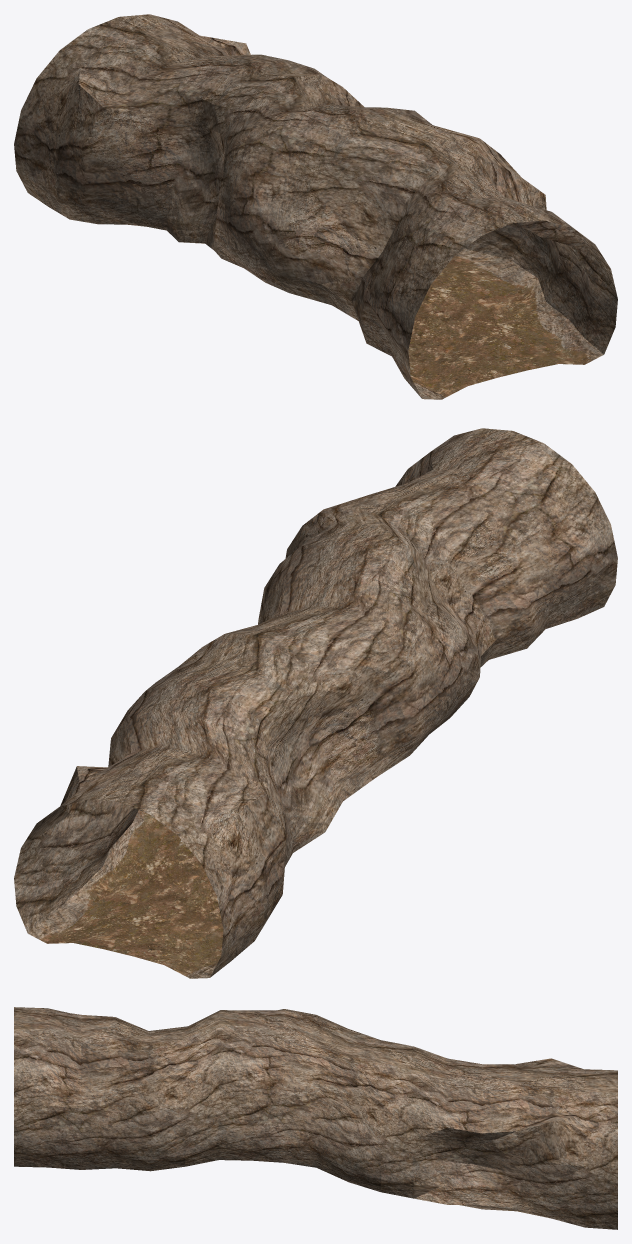
The model's file is CaveCorridorDownSmall.obj.
3 renders of one model, top to bottom at view 1: azimuth 30°, elevation 25°; view 2: azimuth 150°, elevation 25°; view 3: azimuth 270°, elevation 25°, orthographic. The views are drawn at different scales.
Visible parts, largest first — view 1: CaveCorridorDownSmall; view 2: CaveCorridorDownSmall; view 3: CaveCorridorDownSmall.
Part boxes in pixels (box(x1,y1,x2,y2)): CaveCorridorDownSmall: box(14, 14, 617, 399); CaveCorridorDownSmall: box(14, 428, 617, 978); CaveCorridorDownSmall: box(14, 1007, 617, 1229).
Bounding box in the file's own units: 3.53 × 3.56 × 10.4.
